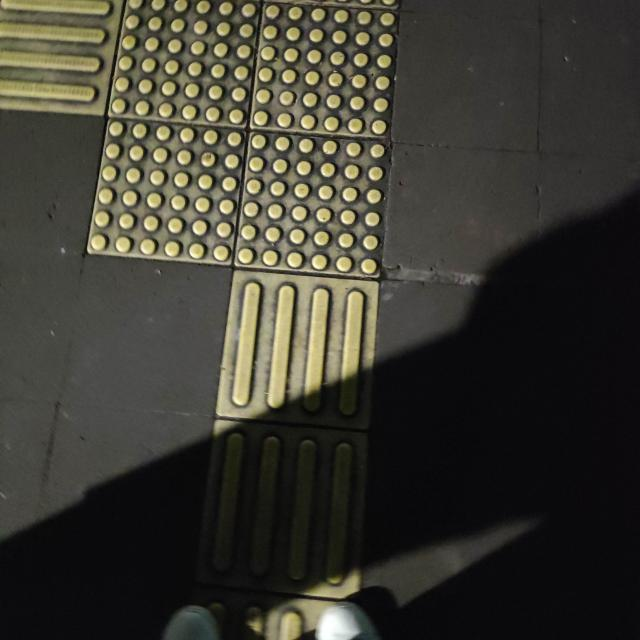kiri: (0, 0, 446, 402)
